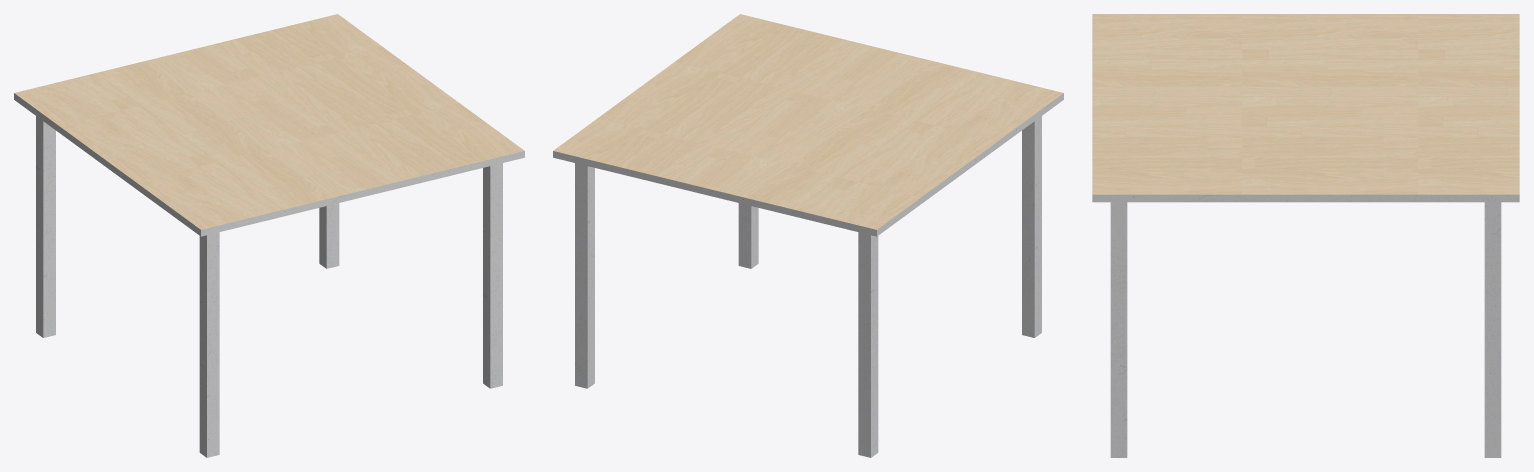
File: Dining Table SHC QuickOffice.fbx
The picture shows the model from 3 angles, left to right: view 1: azimuth 30°, elevation 25°; view 2: azimuth 150°, elevation 25°; view 3: azimuth 270°, elevation 25°; orthographic projection. The views are drawn at different scales.
Visible parts, largest first — view 1: Component_180_1; view 2: Component_180_1; view 3: Component_180_1.
Boxes of the visible parts, bbox=[...] form: Component_180_1: bbox=[14, 14, 524, 457]; Component_180_1: bbox=[553, 14, 1063, 457]; Component_180_1: bbox=[1092, 14, 1519, 457].
Size of what is drawn, in the model's own units: 0.9998 by 0.7 by 1.
